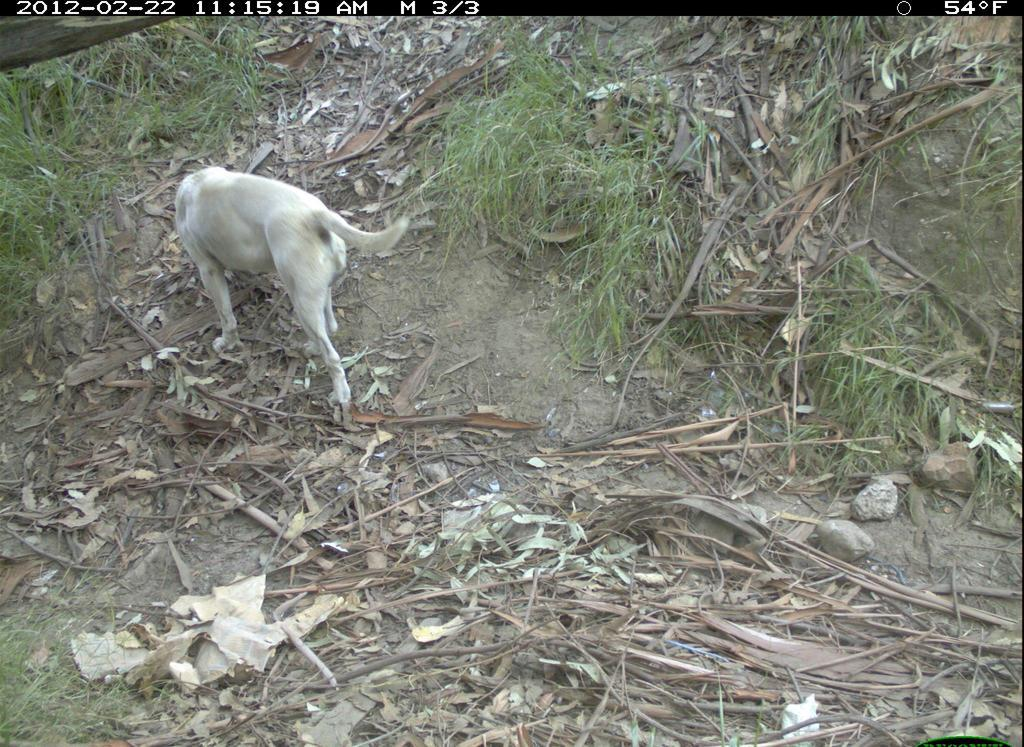dog: (143, 148, 445, 443)
